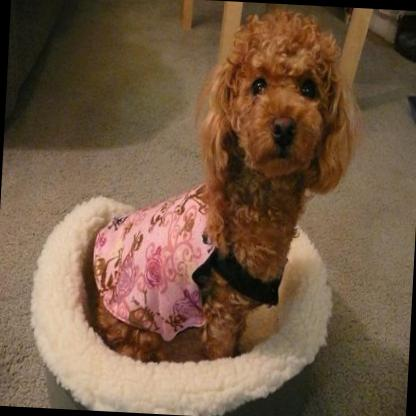toy_poodle: (91, 0, 366, 371)
